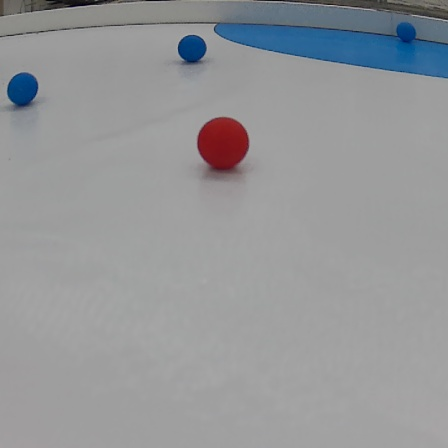blue: (4, 70, 44, 109), (180, 33, 203, 62), (395, 23, 418, 45)
blue_base: (211, 9, 448, 91)
red: (196, 116, 248, 170)
